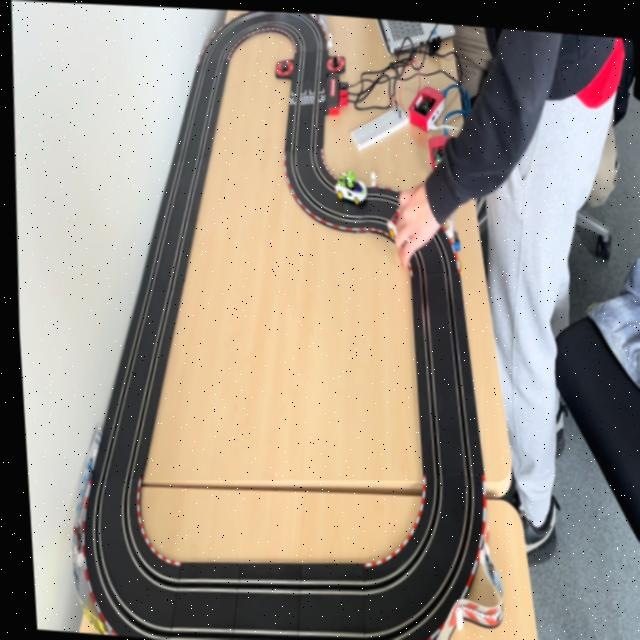yoshi: (332, 164, 370, 204)
